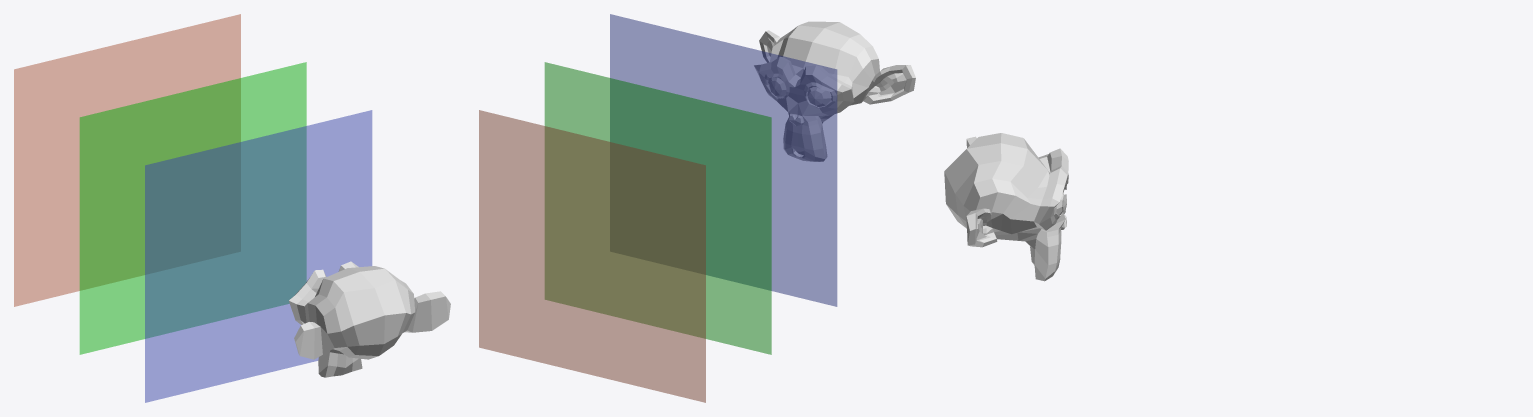
The model's file is basic-oit.glb.
3 renders of one model, left to right at view 1: azimuth 30°, elevation 25°; view 2: azimuth 150°, elevation 25°; view 3: azimuth 270°, elevation 25°, orthographic. The views are drawn at different scales.
Parts seen in each view (by area): view 1: Plane.001, Plane.002, Plane, Suzanne; view 2: Plane.001, Plane, Plane.002, Suzanne; view 3: Suzanne.
Boxes of the visible parts, x1=… form: Plane.001: x1=79, y1=62, x2=306, y2=354; Plane.002: x1=145, y1=110, x2=372, y2=402; Plane: x1=14, y1=14, x2=240, y2=306; Suzanne: x1=289, y1=261, x2=450, y2=377; Plane.001: x1=544, y1=62, x2=771, y2=354; Plane: x1=479, y1=110, x2=705, y2=402; Plane.002: x1=610, y1=14, x2=837, y2=306; Suzanne: x1=754, y1=21, x2=915, y2=161; Suzanne: x1=944, y1=133, x2=1068, y2=281.
Size of the model in its own units: 4 by 4 by 7.85.
